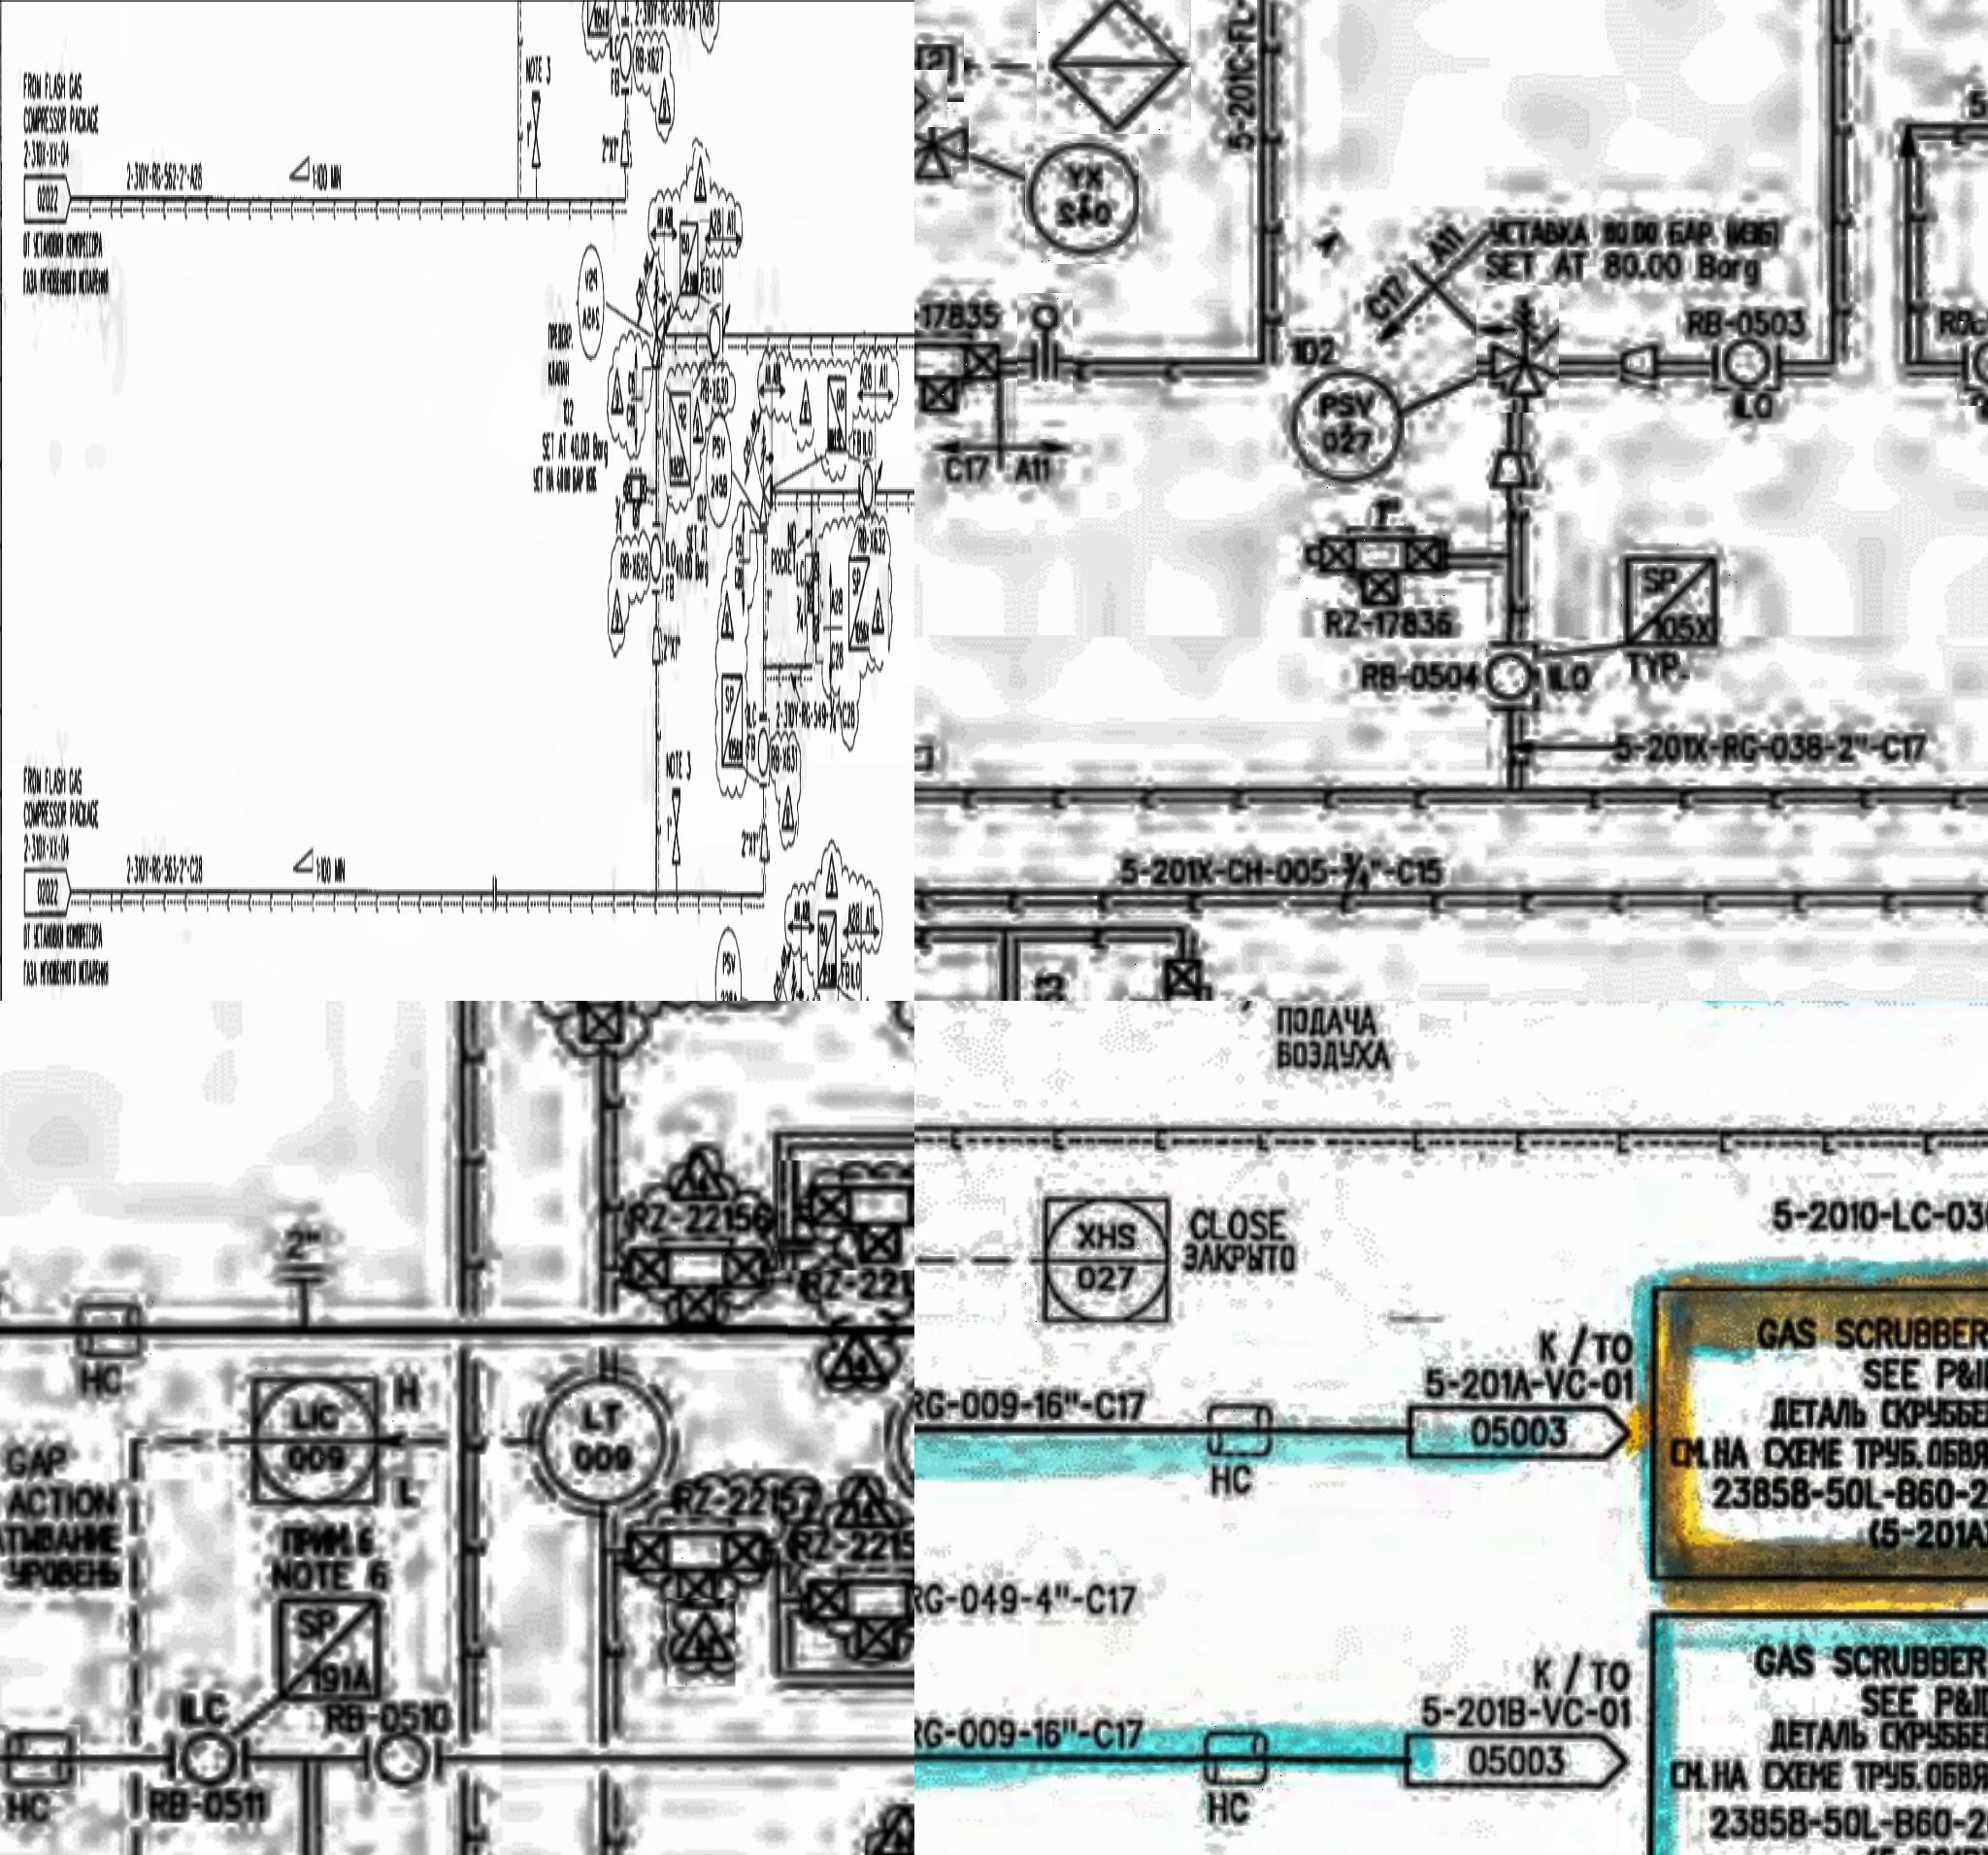2 WAY VALVE: (607, 1501, 797, 1620), (591, 1226, 788, 1339), (1299, 520, 1465, 614), (778, 1159, 914, 1271), (800, 1567, 914, 1670), (914, 324, 1011, 420), (525, 1001, 643, 1060), (1125, 955, 1212, 1001), (804, 539, 823, 666), (623, 465, 650, 530)
3 WAY GENERAL VALVE: (914, 113, 970, 192)
ANGLE RELIEF VALVE: (1477, 286, 1559, 413), (759, 417, 773, 546), (652, 265, 666, 385)
BLIND SPADE OPEN: (1018, 295, 1074, 394)
CONCENTRIC REDUCER: (1610, 336, 1672, 392), (1489, 443, 1542, 500), (619, 119, 631, 173), (759, 818, 769, 873), (652, 624, 663, 675)
DCS ACCESSIBLE: (234, 1362, 398, 1510), (1022, 1186, 1189, 1330)
DUPLEX RECEPTACLE: (1196, 1717, 1283, 1797), (1196, 1396, 1287, 1471), (70, 1292, 155, 1362), (0, 1724, 80, 1792)
END FLANGED: (267, 1247, 340, 1301)
FIELD INSTRUMENT: (511, 1342, 691, 1517), (1282, 370, 1423, 490), (1025, 143, 1140, 267), (868, 1367, 914, 1520), (366, 1717, 445, 1794), (176, 1722, 251, 1803), (1477, 633, 1554, 708), (1716, 328, 1786, 396), (575, 232, 607, 361), (705, 415, 732, 528), (1957, 321, 1988, 406), (755, 722, 771, 793), (617, 24, 633, 91), (860, 460, 875, 527), (708, 303, 722, 368), (650, 527, 663, 593)
GATE VALVE: (530, 73, 544, 180), (670, 774, 682, 873)
HARDWIRED INTERLOCK FIELD: (914, 71, 949, 129)
HARDWIRED INTERLOCK PRIMARY.: (1038, 0, 1193, 136)
REVISION TRIANGLE: (668, 1597, 736, 1686), (867, 1789, 914, 1855), (868, 563, 889, 664), (603, 579, 628, 657), (687, 148, 711, 221), (607, 350, 626, 432), (797, 364, 814, 452), (656, 68, 673, 153), (780, 781, 797, 865), (720, 574, 732, 662), (691, 391, 706, 459), (823, 835, 839, 901)
SPECIAL PIPING ITEM: (262, 1590, 403, 1714), (1618, 542, 1737, 662), (666, 378, 694, 497), (718, 666, 745, 783), (846, 544, 872, 656), (825, 368, 849, 467), (814, 907, 841, 999), (677, 207, 701, 300)
SPEED FLOW METER: (914, 33, 964, 105)
